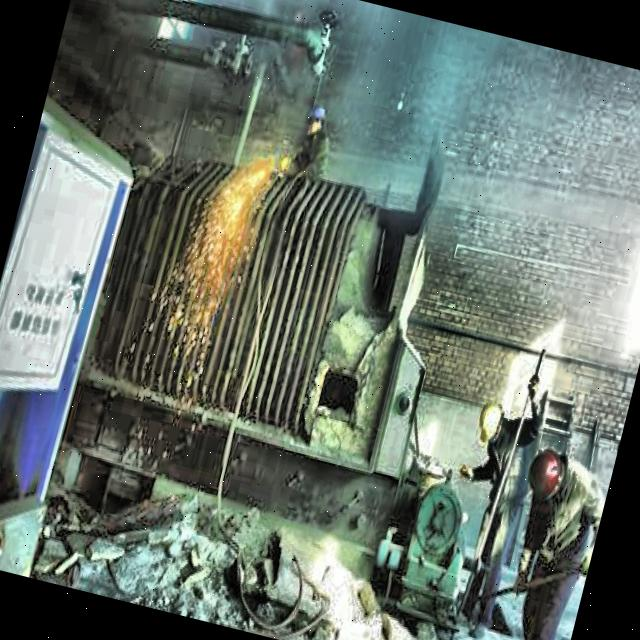helmet: (520, 444, 570, 504), (467, 395, 514, 453), (301, 100, 335, 144)
